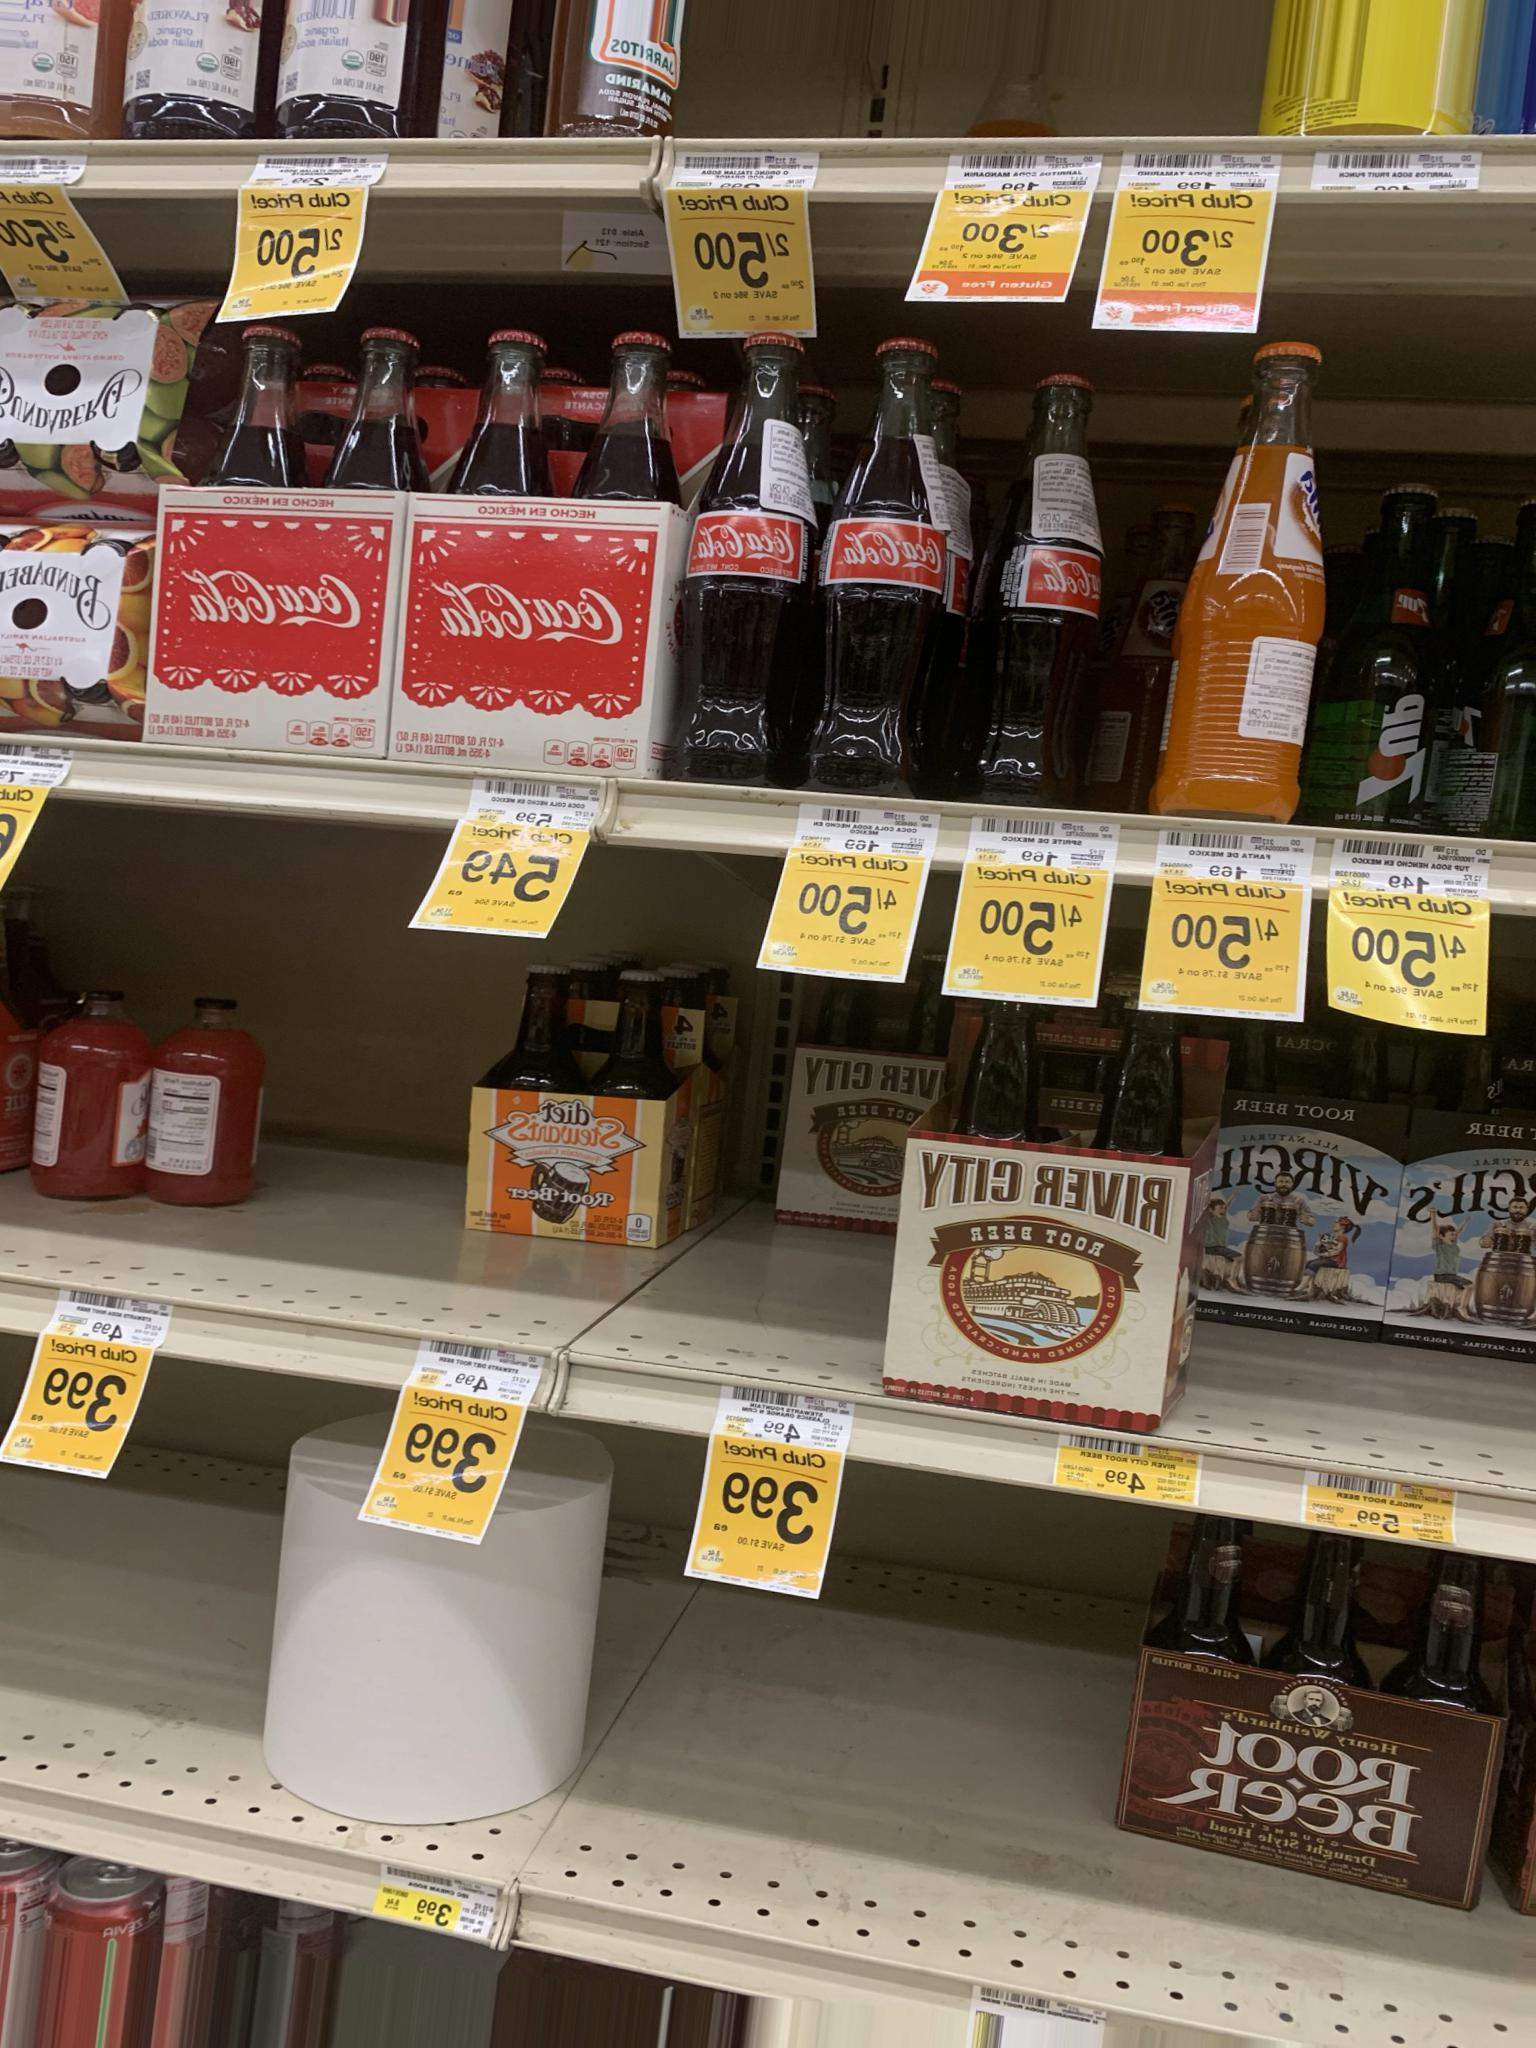soda: (408, 311, 641, 777), (1149, 1634, 1481, 1904), (181, 314, 386, 751), (916, 1140, 1186, 1435), (692, 319, 812, 792), (833, 348, 954, 795), (466, 1095, 666, 1261)
